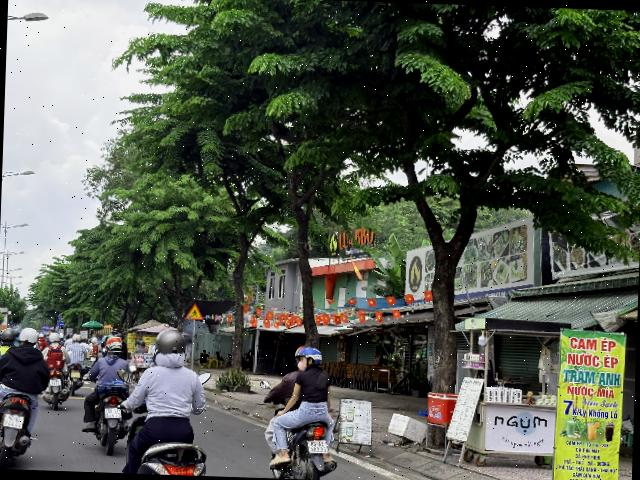duong-nguoi-di-bo-cat-ngang: (185, 302, 204, 320)
